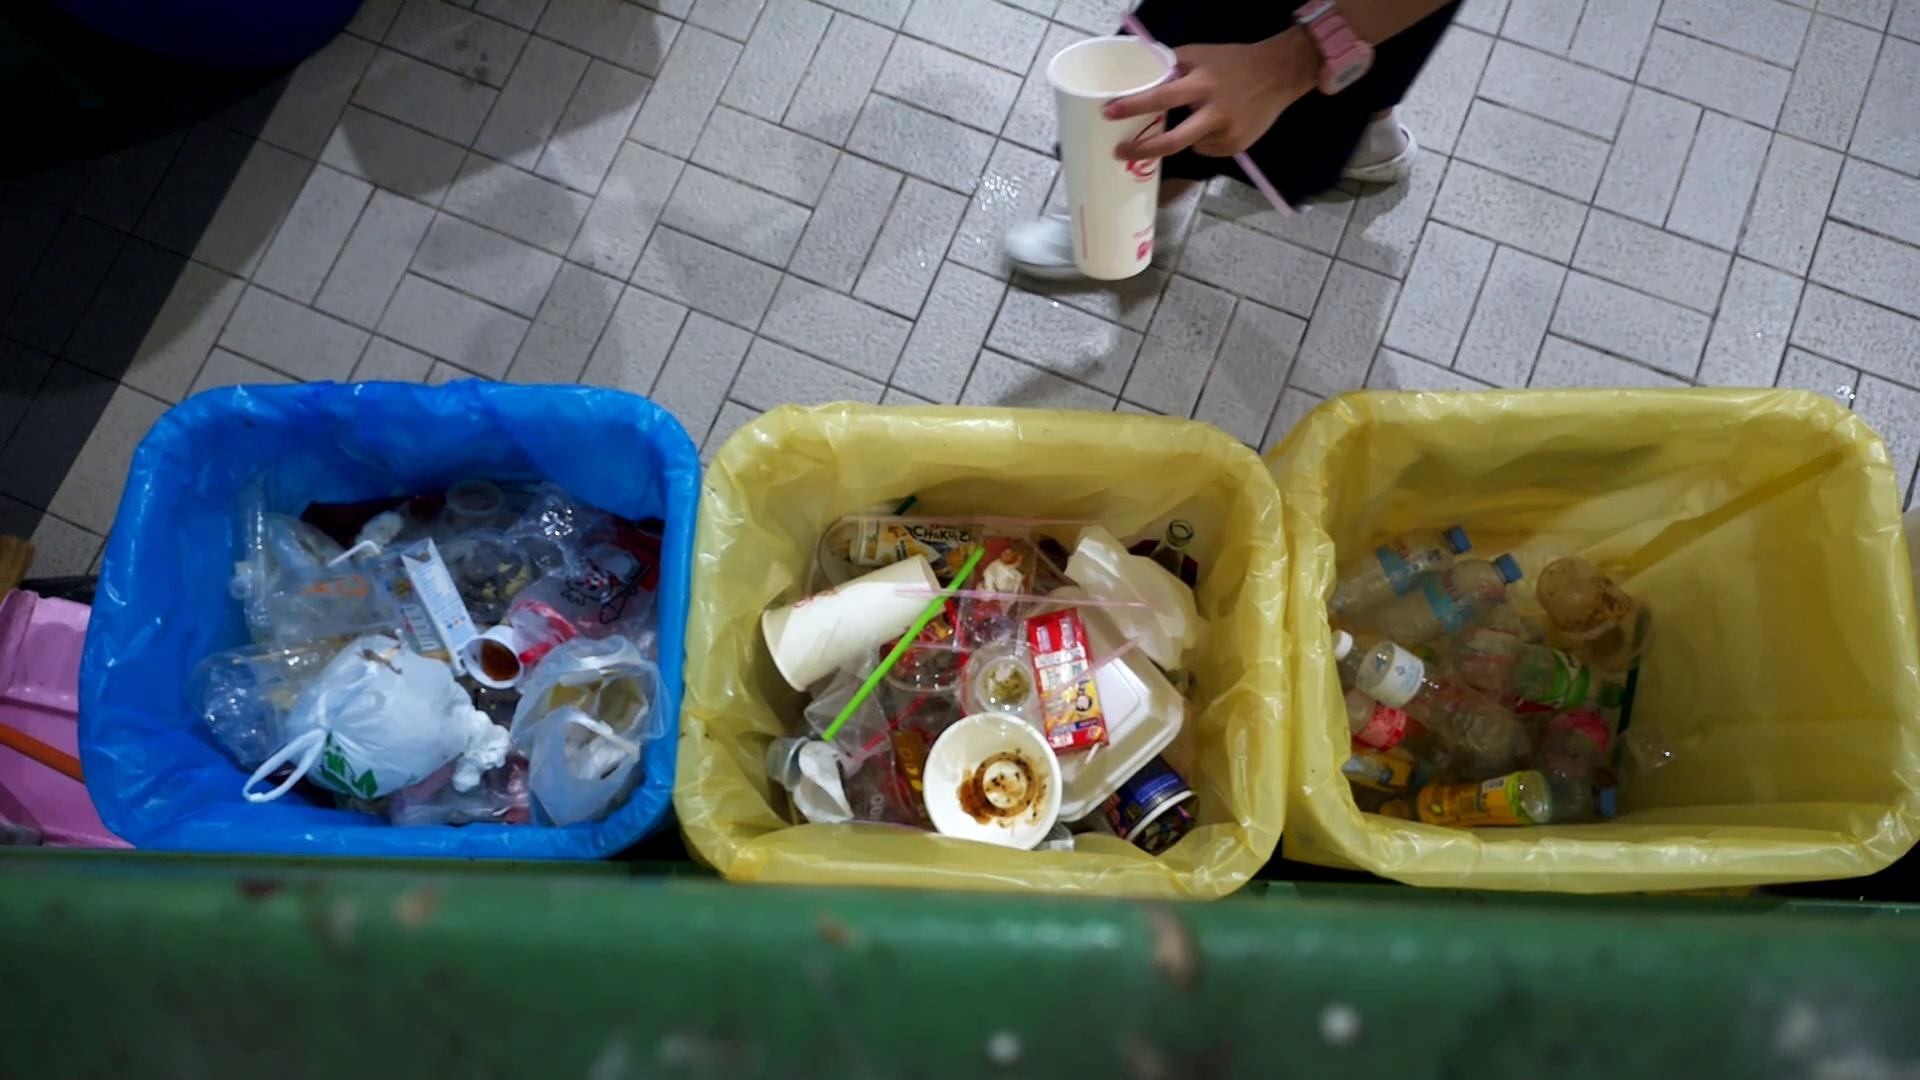can: (848, 513, 986, 567)
filled plastic bag: (508, 636, 669, 825)
food container: (924, 713, 1063, 853), (460, 625, 524, 690), (444, 480, 504, 537)
milk carton: (363, 537, 479, 676)
plastic bottle: (241, 633, 475, 803), (1325, 628, 1531, 765), (1335, 554, 1524, 650), (1429, 628, 1633, 715), (1323, 522, 1474, 612), (1381, 769, 1555, 822)
plastic cup: (1538, 556, 1652, 667)
straw: (1121, 12, 1294, 219), (820, 547, 988, 741), (1021, 607, 1110, 756)
zero waste cup: (1046, 36, 1178, 282), (761, 555, 945, 695)
